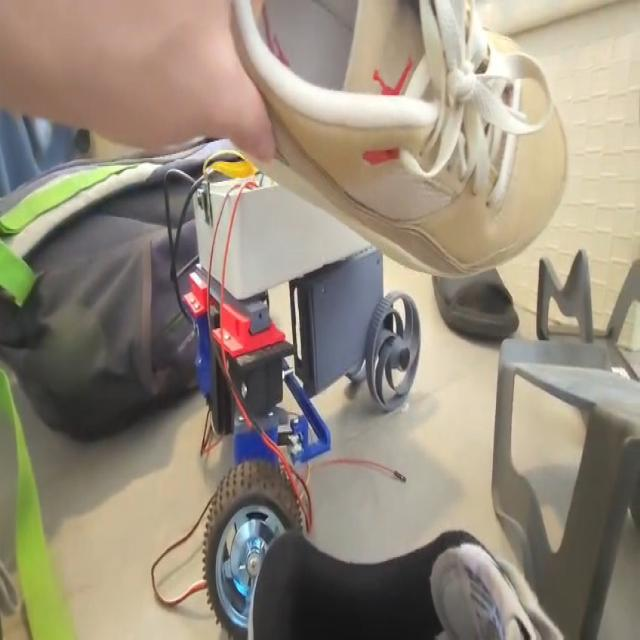Robot: (181, 167, 420, 640)
